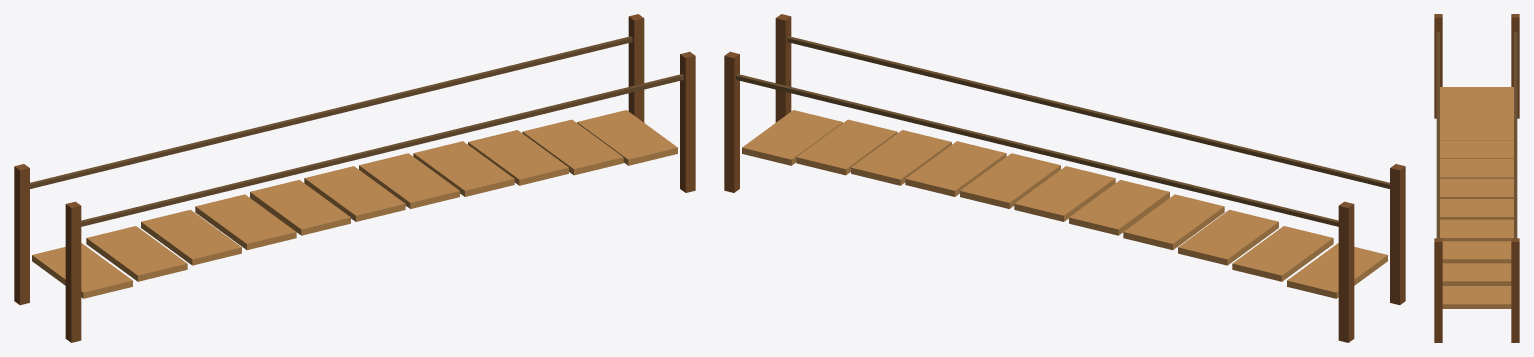
The model's file is sky_rope_bridge.glb.
3 views of the same model, side by side, from view 1: azimuth 30°, elevation 25°; view 2: azimuth 150°, elevation 25°; view 3: azimuth 270°, elevation 25° (orthographic). The views are drawn at different scales.
Parts seen in each view (by area): view 1: rope_bridge; view 2: rope_bridge; view 3: rope_bridge.
Boxes of the visible parts, x1,y1,x2,y2 form: rope_bridge: (14,14,695,342); rope_bridge: (724,14,1405,342); rope_bridge: (1434,14,1519,342).
Size of the model in its own units: 6.3 by 1.3 by 1.
